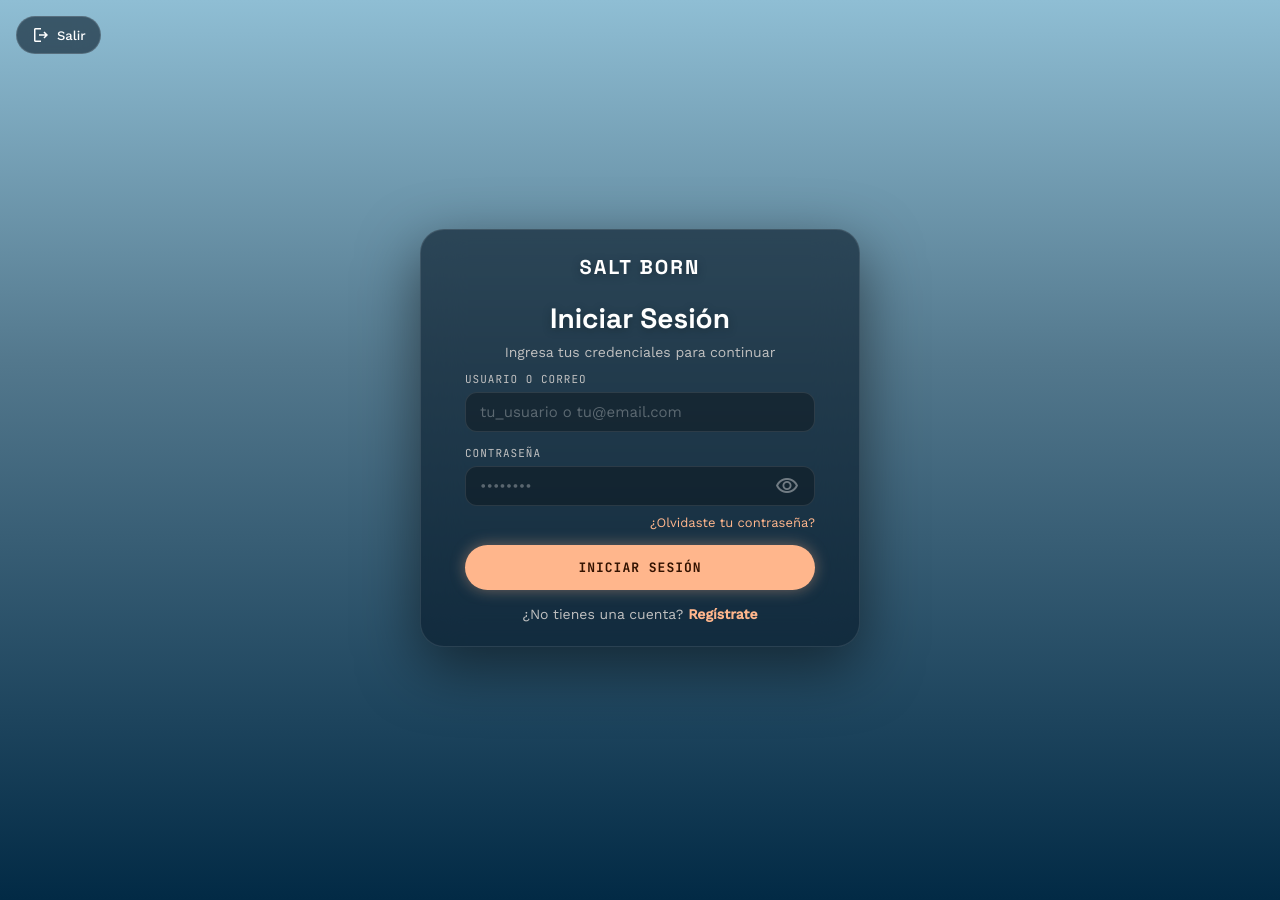
Test: Login › muestra error si el usuario está vacío
Click the button "Iniciar Sesión": [640, 568] box [465,545,815,590]
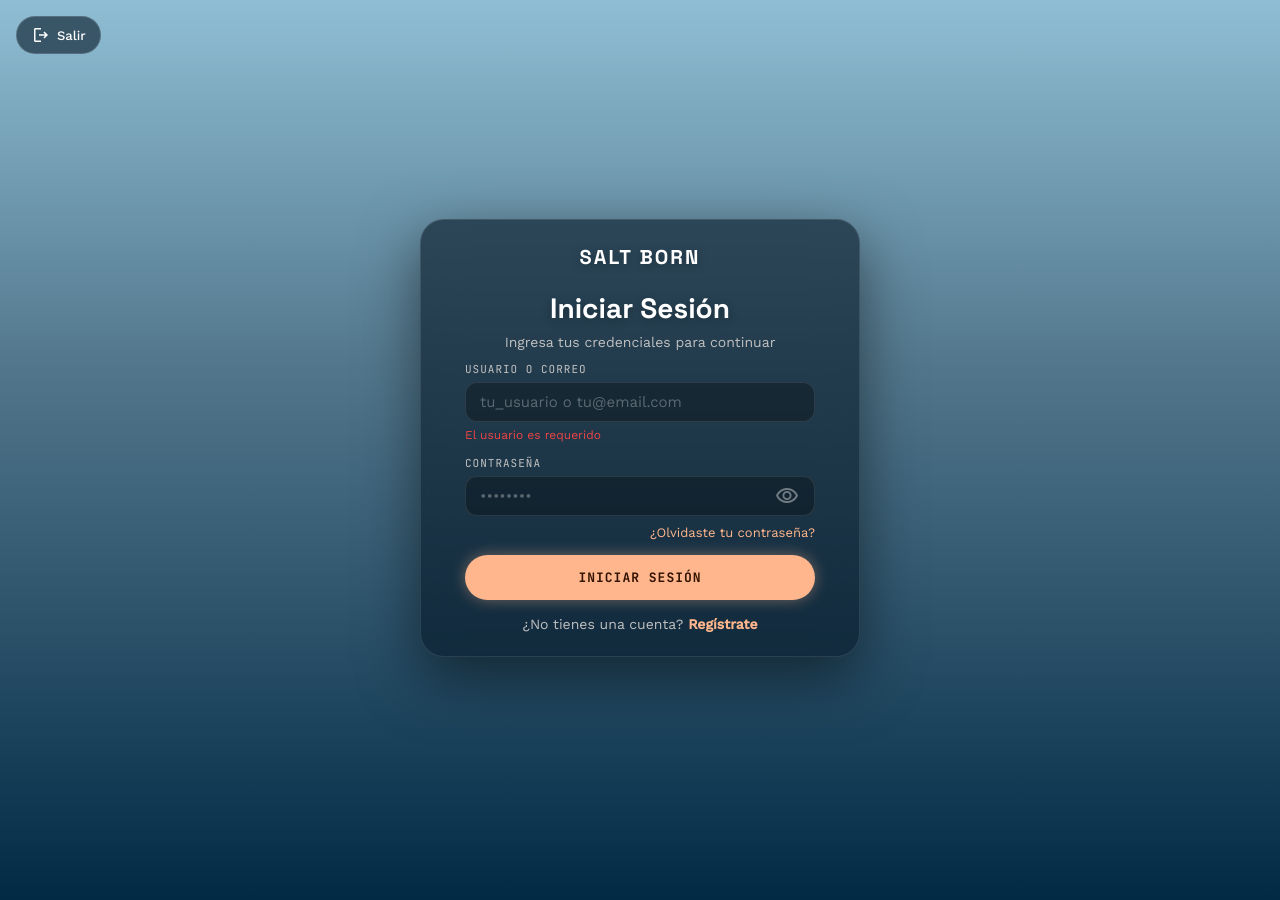
Expected: the text "El usuario es requerido" is shown, [465,428,601,442]
